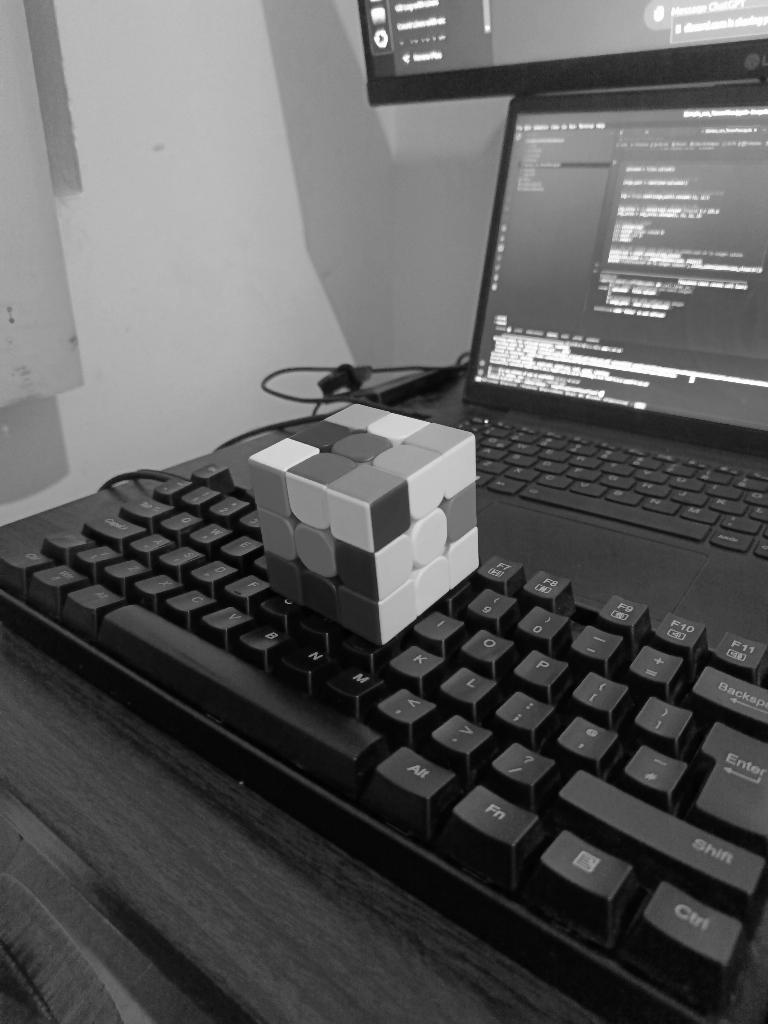rubik: (246, 400, 482, 644)
